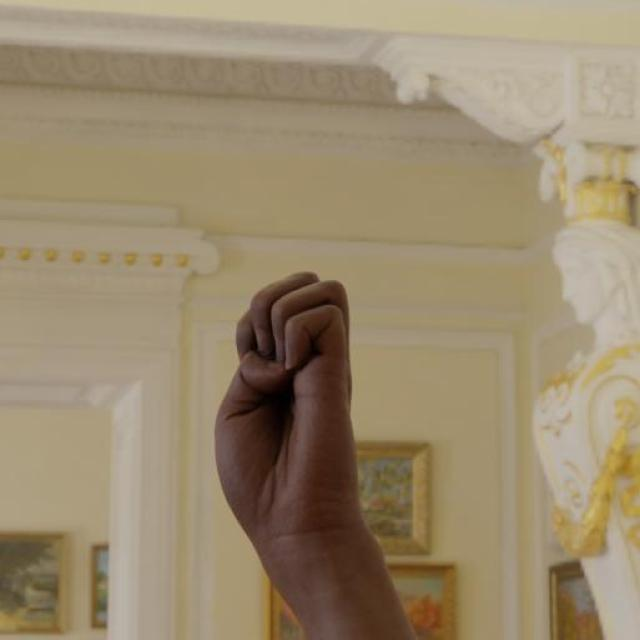E: (207, 265, 368, 546)
